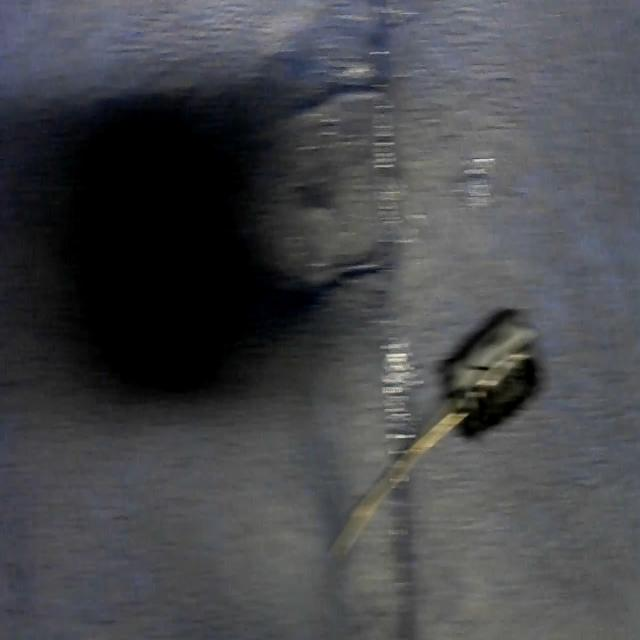capacitor: (334, 314, 544, 555)
